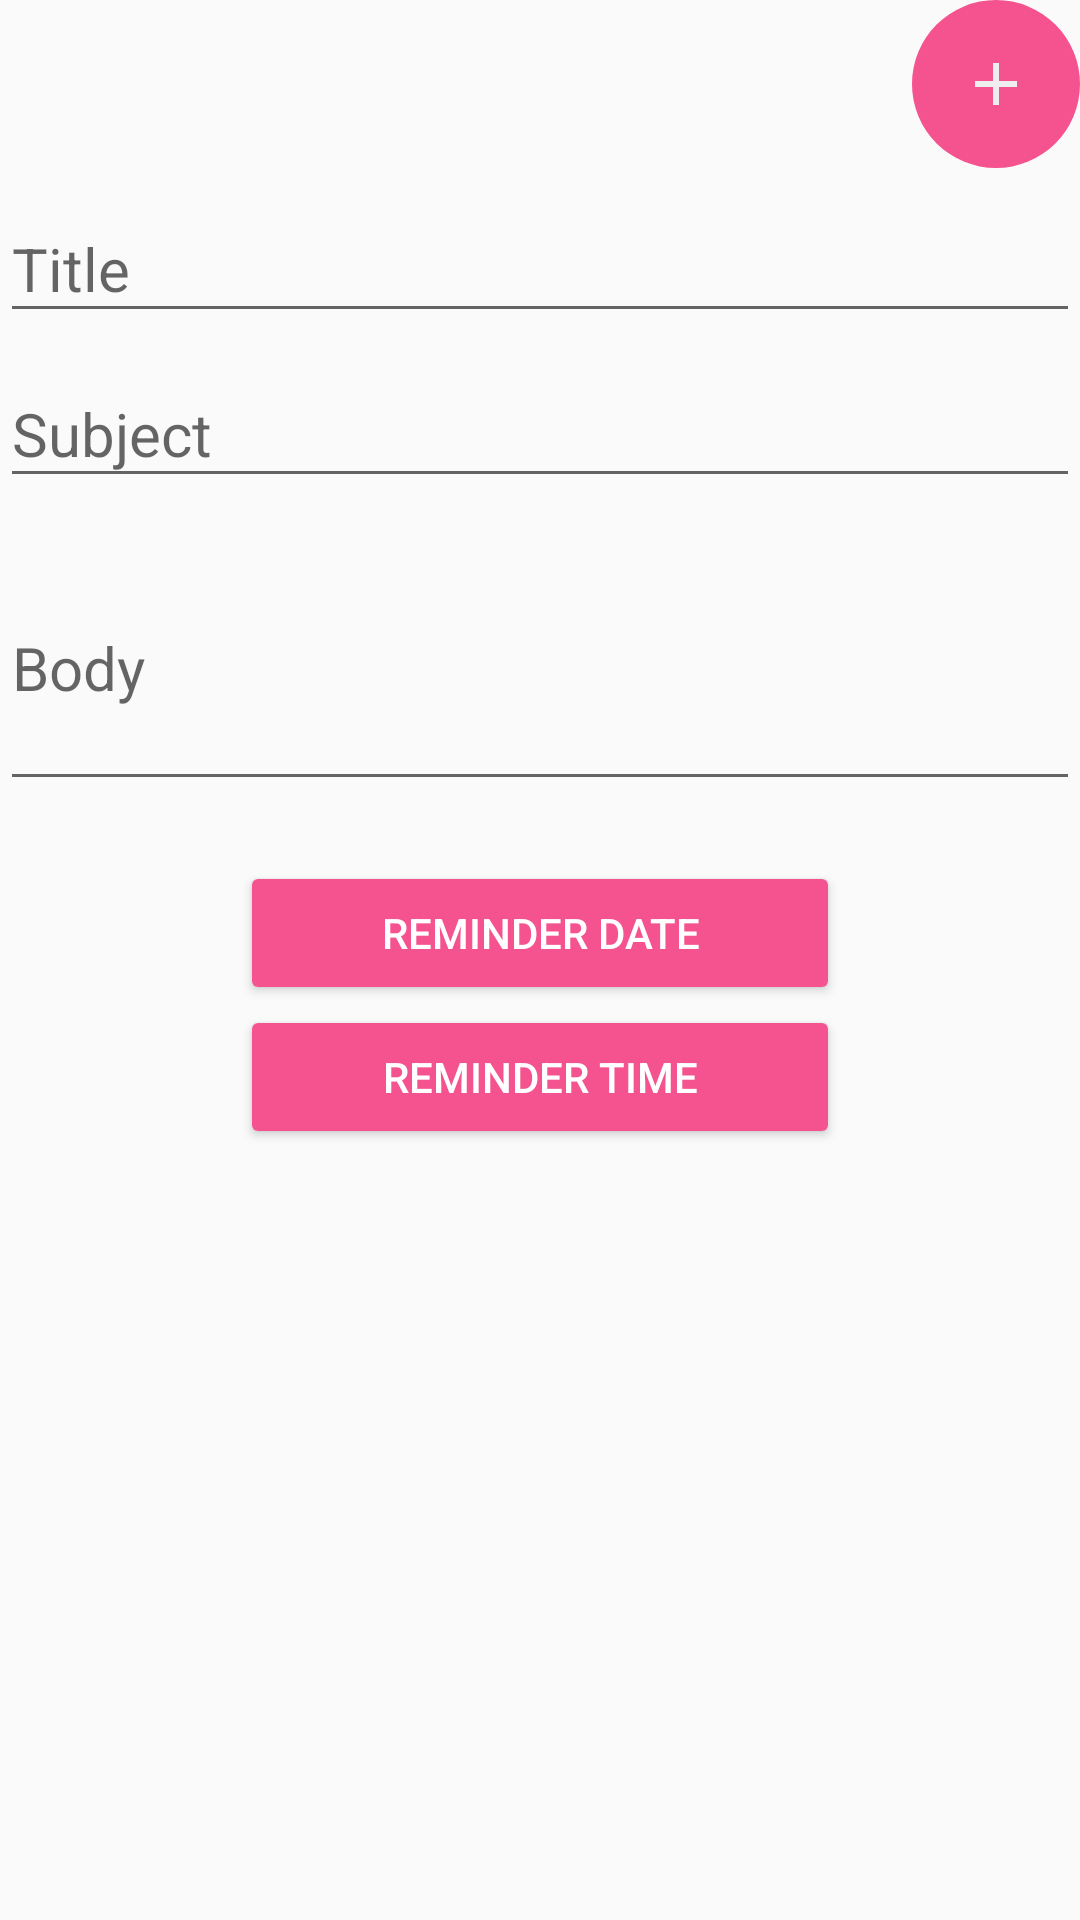

Icon bounding boxes for this 1080 × 1920 phone screenshot, format rect(x1, y1, x2, y2):
add: rect(912, 0, 1080, 168)
